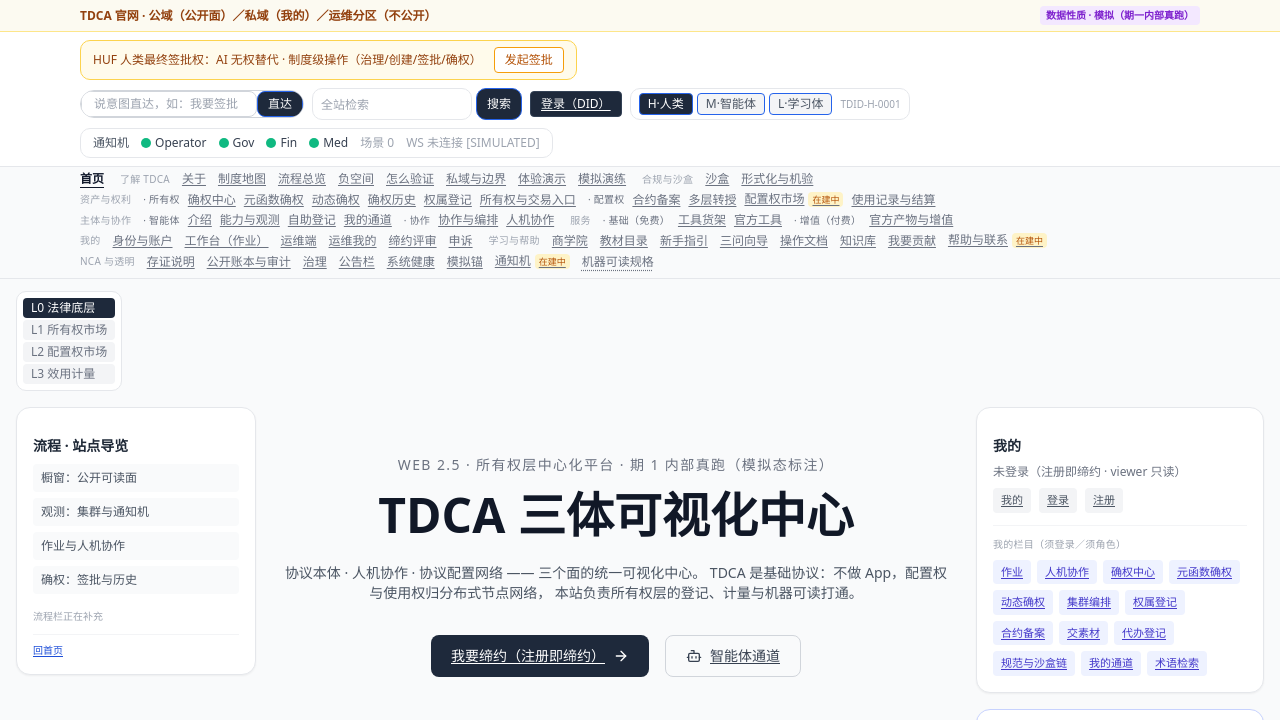
Test: F0-A1 应用壳 › HUF 签批确认 → 状态置为已存证
Step 1. Click the button with test id "huf-banner-open" → click(529, 60), box x1=494 y1=47 x2=564 y2=73
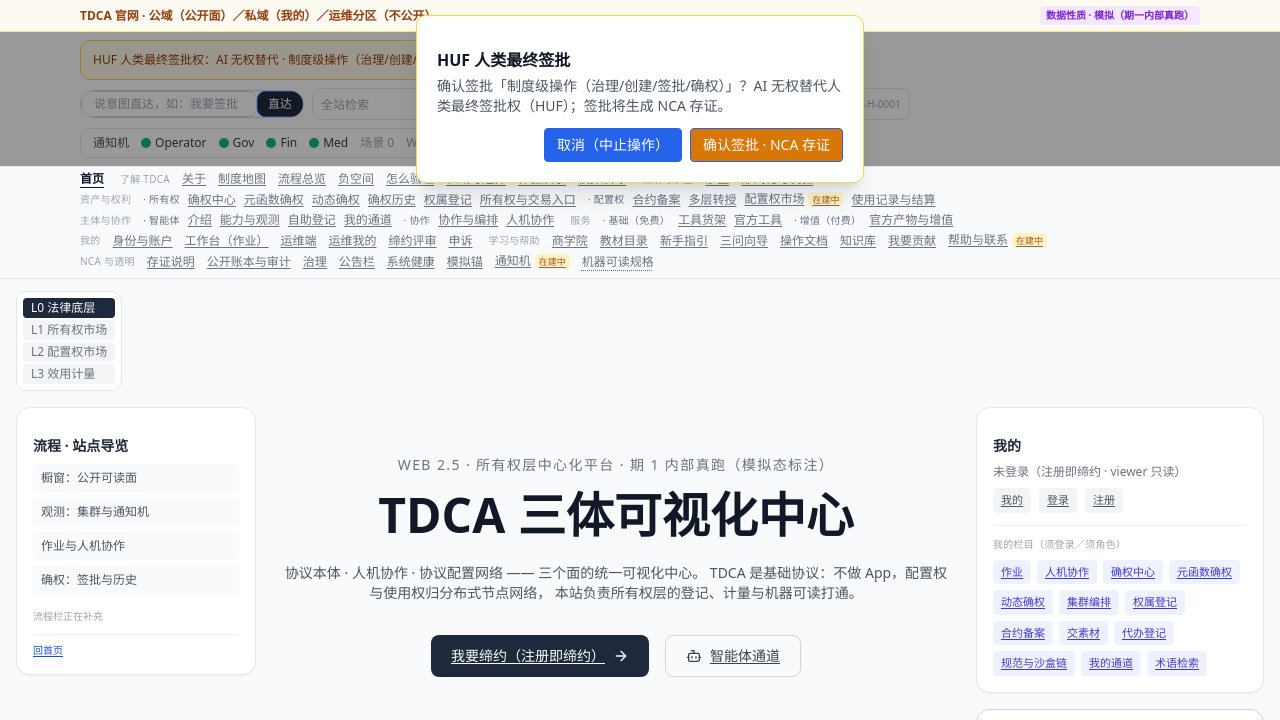
Step 2. Click the button with test id "huf-confirm" → click(766, 145), box x1=690 y1=128 x2=843 y2=162
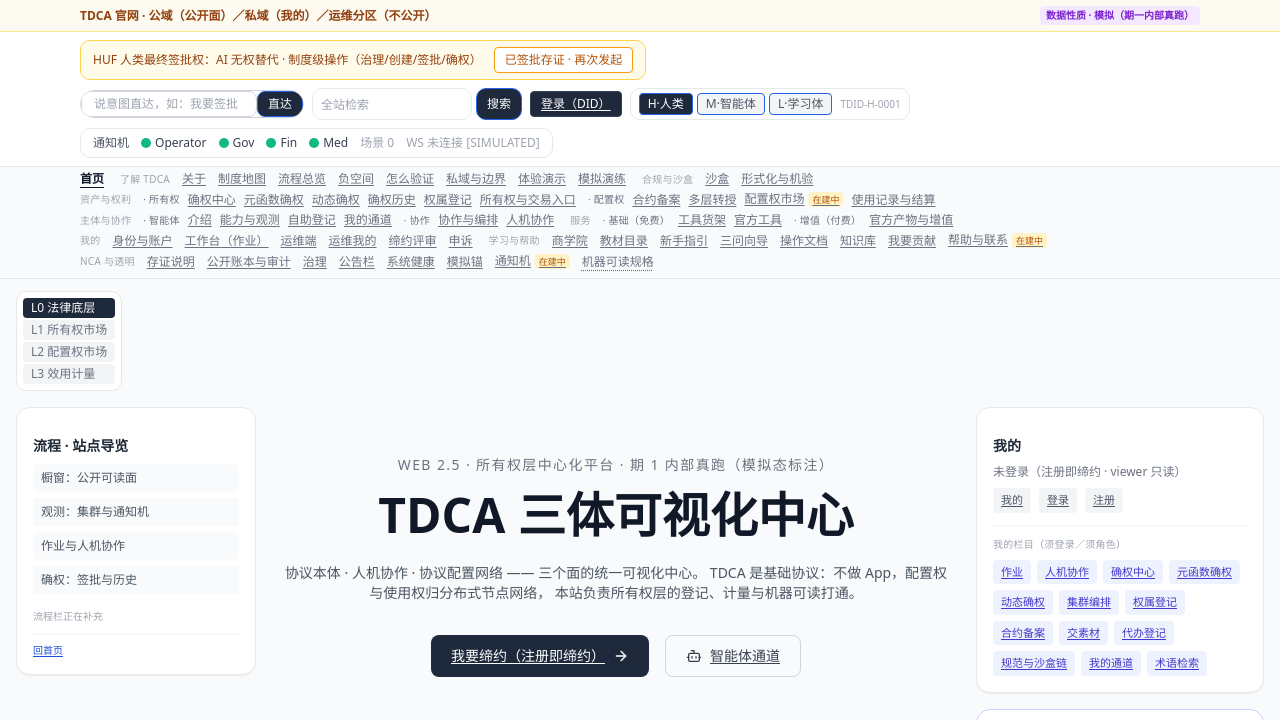
Result: the button with test id "huf-banner-open" shows "已签批存证" at x1=494 y1=47 x2=633 y2=73
